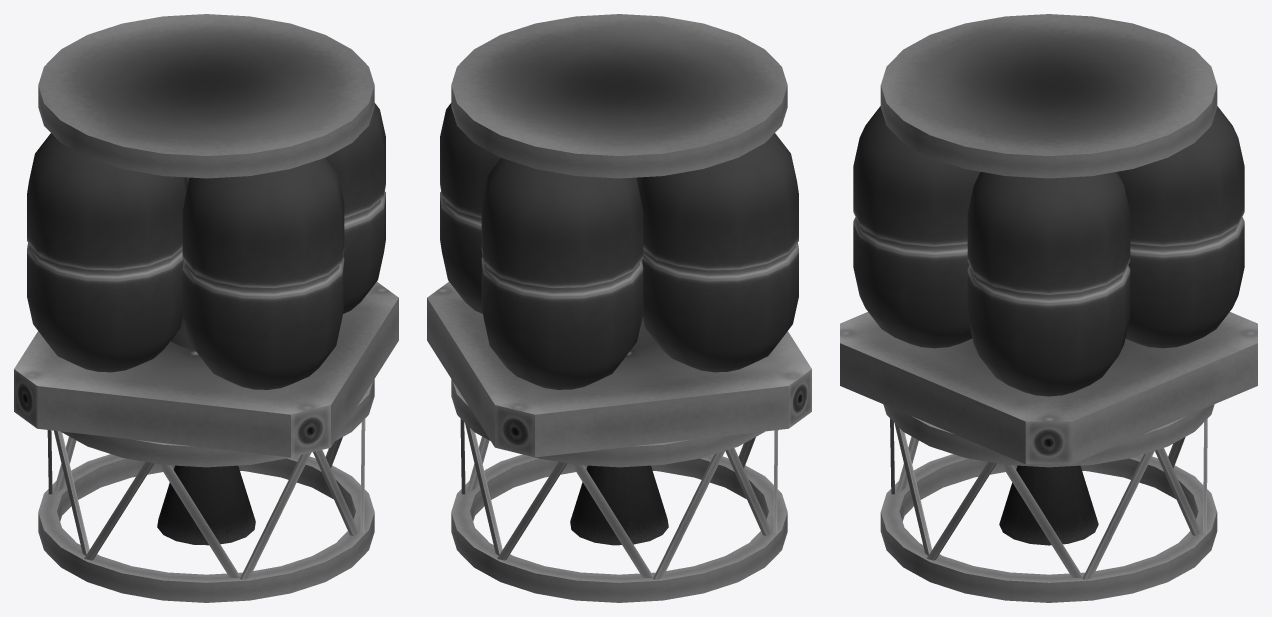
Rendered from bluedog_loEngine.dae.
The picture shows the model from 3 angles, left to right: view 1: azimuth 30°, elevation 25°; view 2: azimuth 150°, elevation 25°; view 3: azimuth 270°, elevation 25°; orthographic projection.
Parts seen in each view (by area): view 1: Mount, FuelTank3, FuelTank1, EnginePlate, fairing, FuelTank, thrustTransform; view 2: Mount, FuelTank2, FuelTank1, EnginePlate, fairing, FuelTank, thrustTransform; view 3: Mount, FuelTank, EnginePlate, fairing, FuelTank2, FuelTank3, thrustTransform.
Part boxes in pixels (<box>): Mount: <box>38,14,374,178</box>; FuelTank3: <box>182,158,344,389</box>; FuelTank1: <box>27,133,187,372</box>; EnginePlate: <box>14,282,398,457</box>; fairing: <box>38,379,374,602</box>; FuelTank: <box>325,103,385,313</box>; thrustTransform: <box>157,316,255,545</box>; Mount: <box>451,14,787,178</box>; FuelTank2: <box>481,158,643,389</box>; FuelTank1: <box>638,133,798,372</box>; EnginePlate: <box>427,282,811,457</box>; fairing: <box>451,379,787,602</box>; FuelTank: <box>440,103,500,313</box>; thrustTransform: <box>570,316,668,545</box>; Mount: <box>880,14,1217,178</box>; FuelTank: <box>967,172,1130,396</box>; EnginePlate: <box>840,312,1257,464</box>; fairing: <box>880,404,1217,602</box>; FuelTank2: <box>1117,106,1244,348</box>; FuelTank3: <box>853,106,980,348</box>; thrustTransform: <box>999,465,1098,545</box>.
Size of the model in its own units: 0.7761 by 0.9167 by 0.7761.
